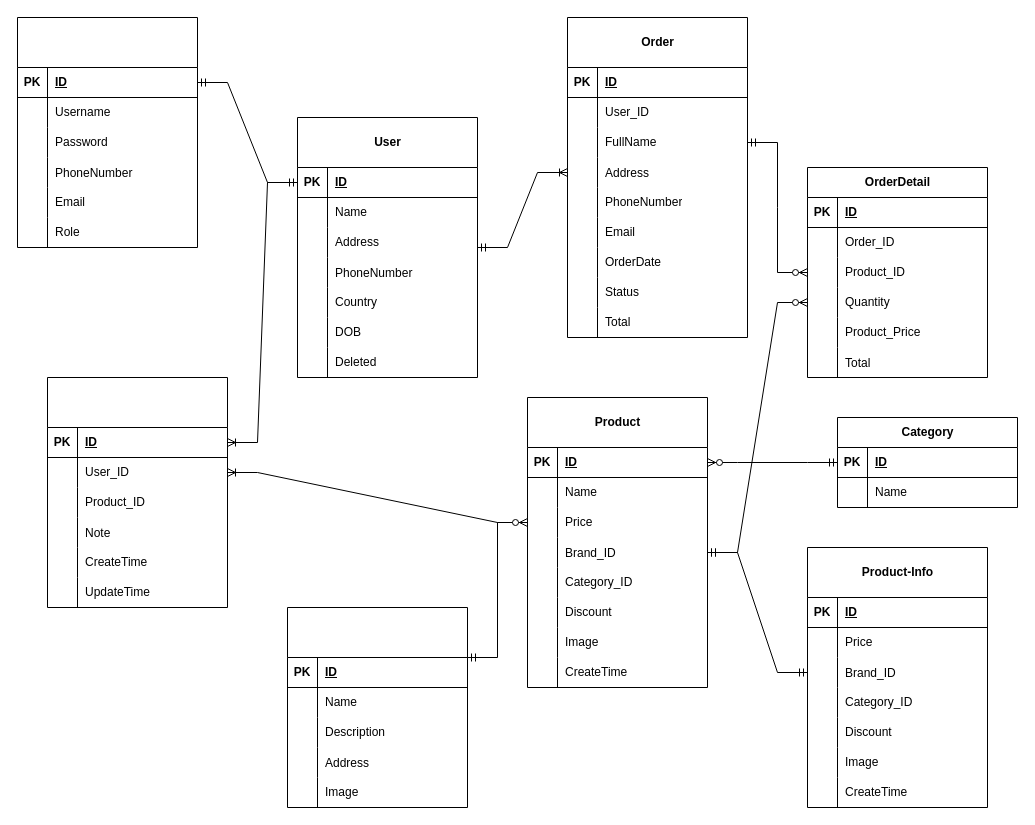
The diagram is 1035 pixels wide and 825 high, and some of its shapes have lost their labels. Here are the shapes that lost their labels. From the top down, the box of each, then its label:
(16, 16, 198, 248): Account
(46, 376, 228, 608): Feedback
(286, 606, 468, 808): Brand
